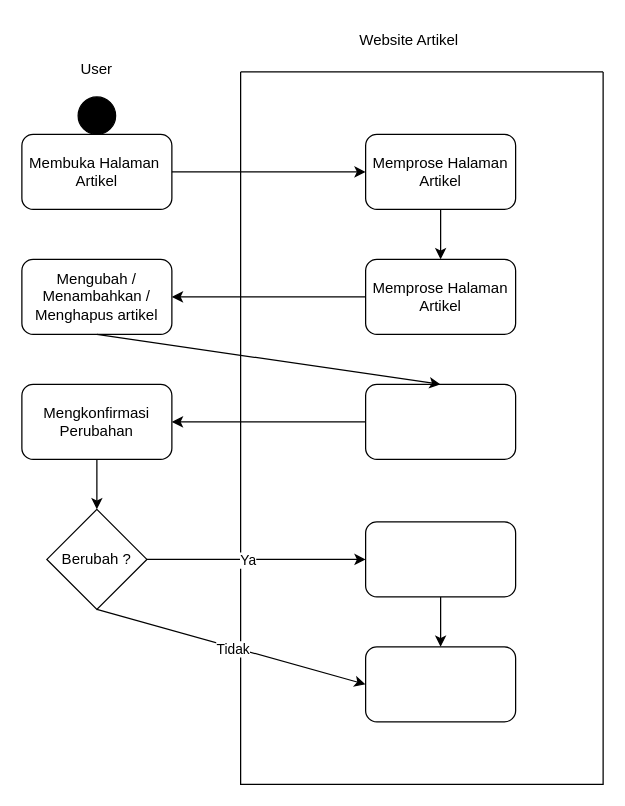
Some shapes in this 625 by 806 pixel diagram are drawn without their labels. The centre of each missing label's shape, as x and y in pixels:
"Konfirmasi Perubahan Artikel ?" goes at [440,421].
"Perubahan Berhasil dilakukan" goes at [440,559].
"Tampilkan Halaman Artikel" goes at [440,684].
